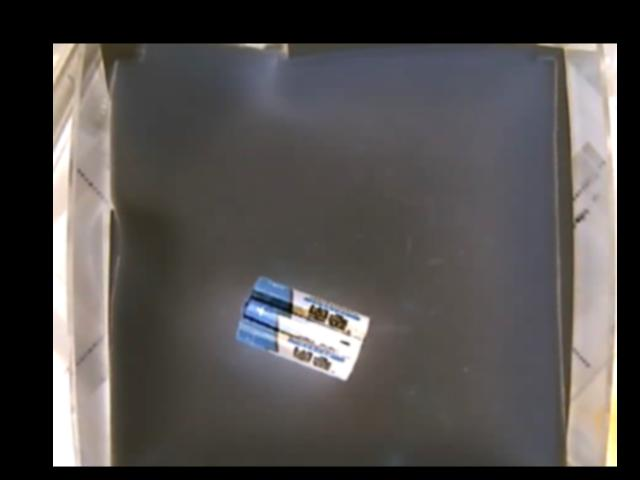Battery: (234, 275, 369, 380)
